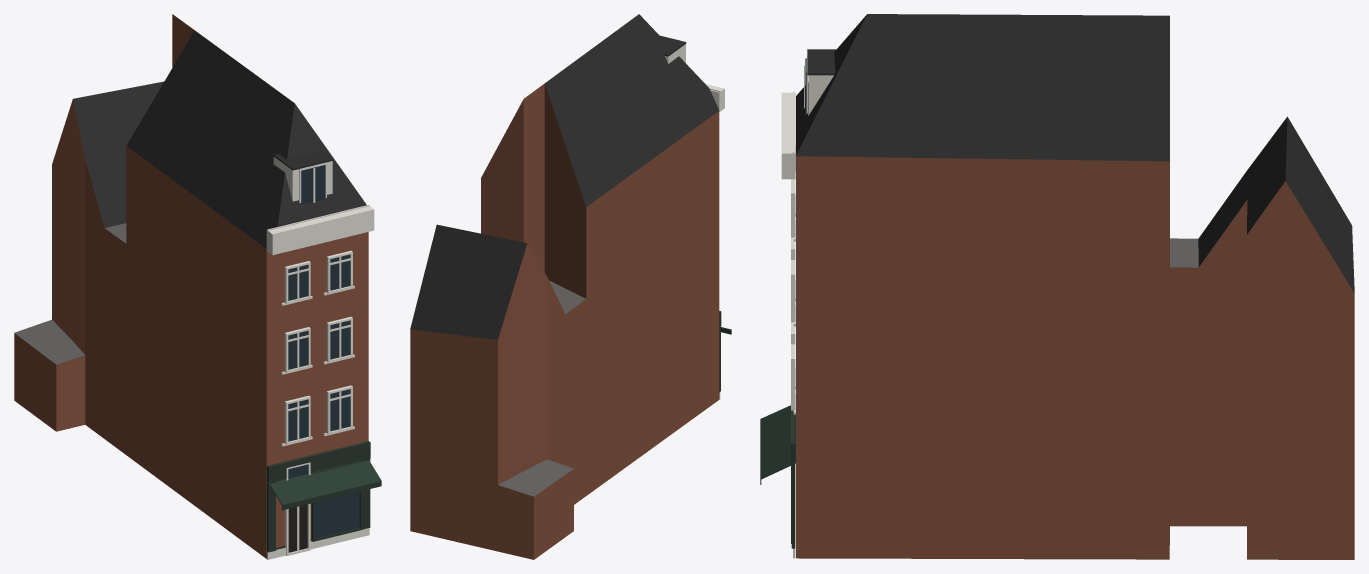
3 views of the same model, side by side, from view 1: azimuth 30°, elevation 25°; view 2: azimuth 150°, elevation 25°; view 3: azimuth 270°, elevation 25° (orthographic). The views are drawn at different scales.
Visible parts, largest first — view 1: spec-0363100012171710; view 2: spec-0363100012171710; view 3: spec-0363100012171710.
Boxes of the visible parts, x1,y1,x2,y2 form: spec-0363100012171710: (14, 14, 381, 559); spec-0363100012171710: (410, 14, 731, 559); spec-0363100012171710: (760, 14, 1354, 559).
Bounding box in the file's own units: 5.25 × 16.03 × 16.69.
